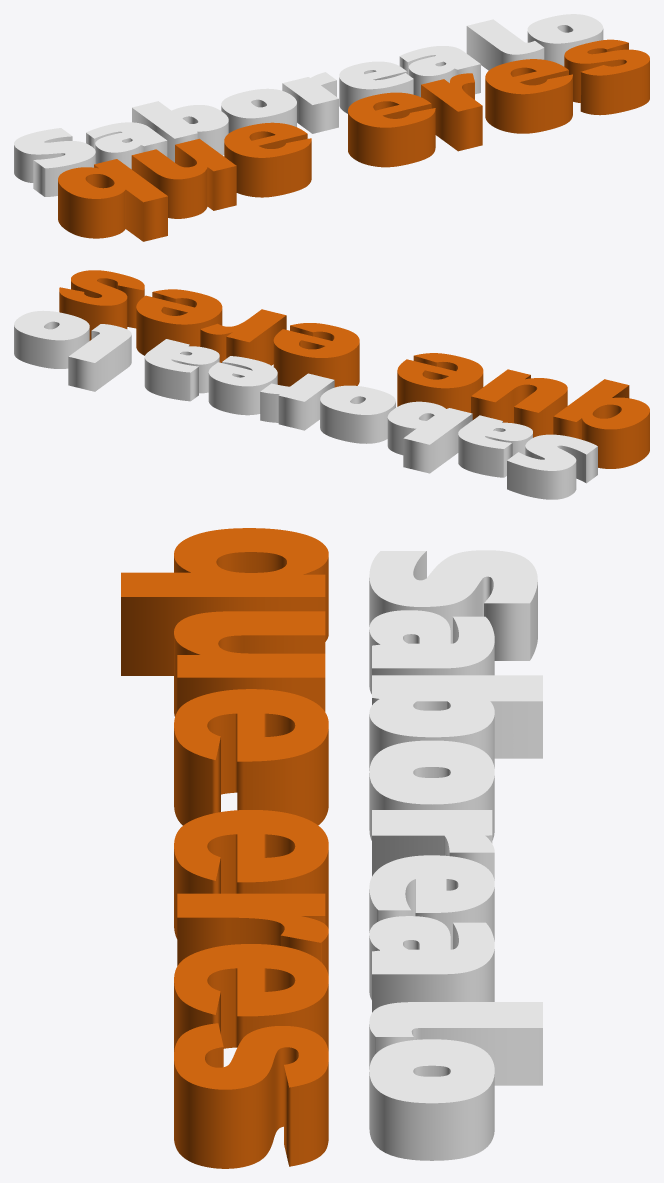
Rendered from liz1.glb.
3 renders of one model, top to bottom at view 1: azimuth 30°, elevation 25°; view 2: azimuth 150°, elevation 25°; view 3: azimuth 270°, elevation 25°, orthographic. The views are drawn at different scales.
Parts seen in each view (by area): view 1: Text.001, Text; view 2: Text, Text.001; view 3: Text.001, Text.
Boxes of the visible parts, bbox=[...] form: Text.001: bbox=[58, 39, 649, 241]; Text: bbox=[14, 14, 603, 196]; Text: bbox=[14, 310, 597, 499]; Text.001: bbox=[59, 270, 649, 468]; Text.001: bbox=[121, 528, 328, 1168]; Text: bbox=[369, 550, 542, 1160].
Size of the model in its own units: 3.36 by 0.22 by 1.06.
